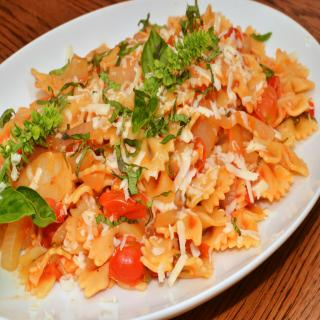Pasta: (2, 12, 320, 302)
Salad: (0, 6, 314, 299)
